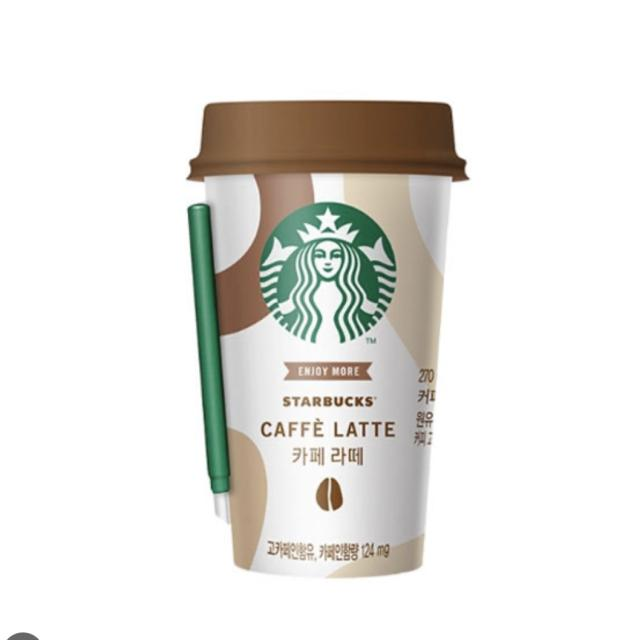non-biodegradable: (172, 77, 479, 593)
